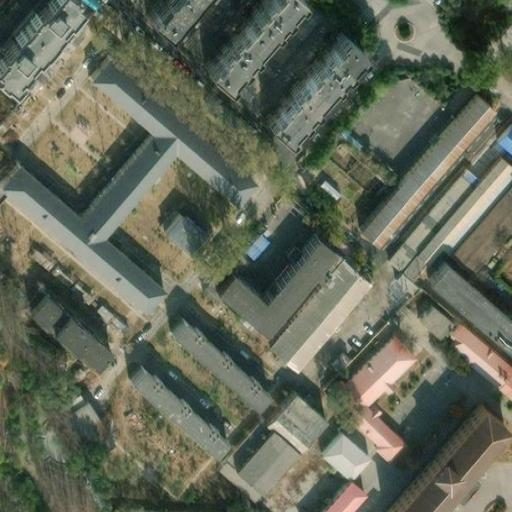building: (0, 55, 253, 315), (349, 90, 490, 246), (395, 155, 508, 280), (209, 238, 337, 344), (261, 258, 364, 369), (394, 416, 507, 512), (260, 30, 355, 135), (420, 259, 512, 360), (380, 166, 471, 266), (169, 324, 266, 413), (132, 374, 222, 456), (436, 318, 512, 405), (445, 176, 512, 273), (316, 380, 398, 456), (337, 337, 408, 411), (311, 423, 380, 489), (230, 430, 292, 494), (47, 317, 109, 376), (259, 392, 319, 451), (54, 395, 108, 460), (151, 0, 210, 47), (157, 211, 208, 261), (22, 295, 66, 339), (41, 260, 87, 302), (316, 477, 360, 512), (87, 298, 124, 333), (18, 240, 51, 271), (382, 266, 413, 297), (489, 118, 512, 157), (316, 345, 344, 375), (241, 235, 267, 261)
